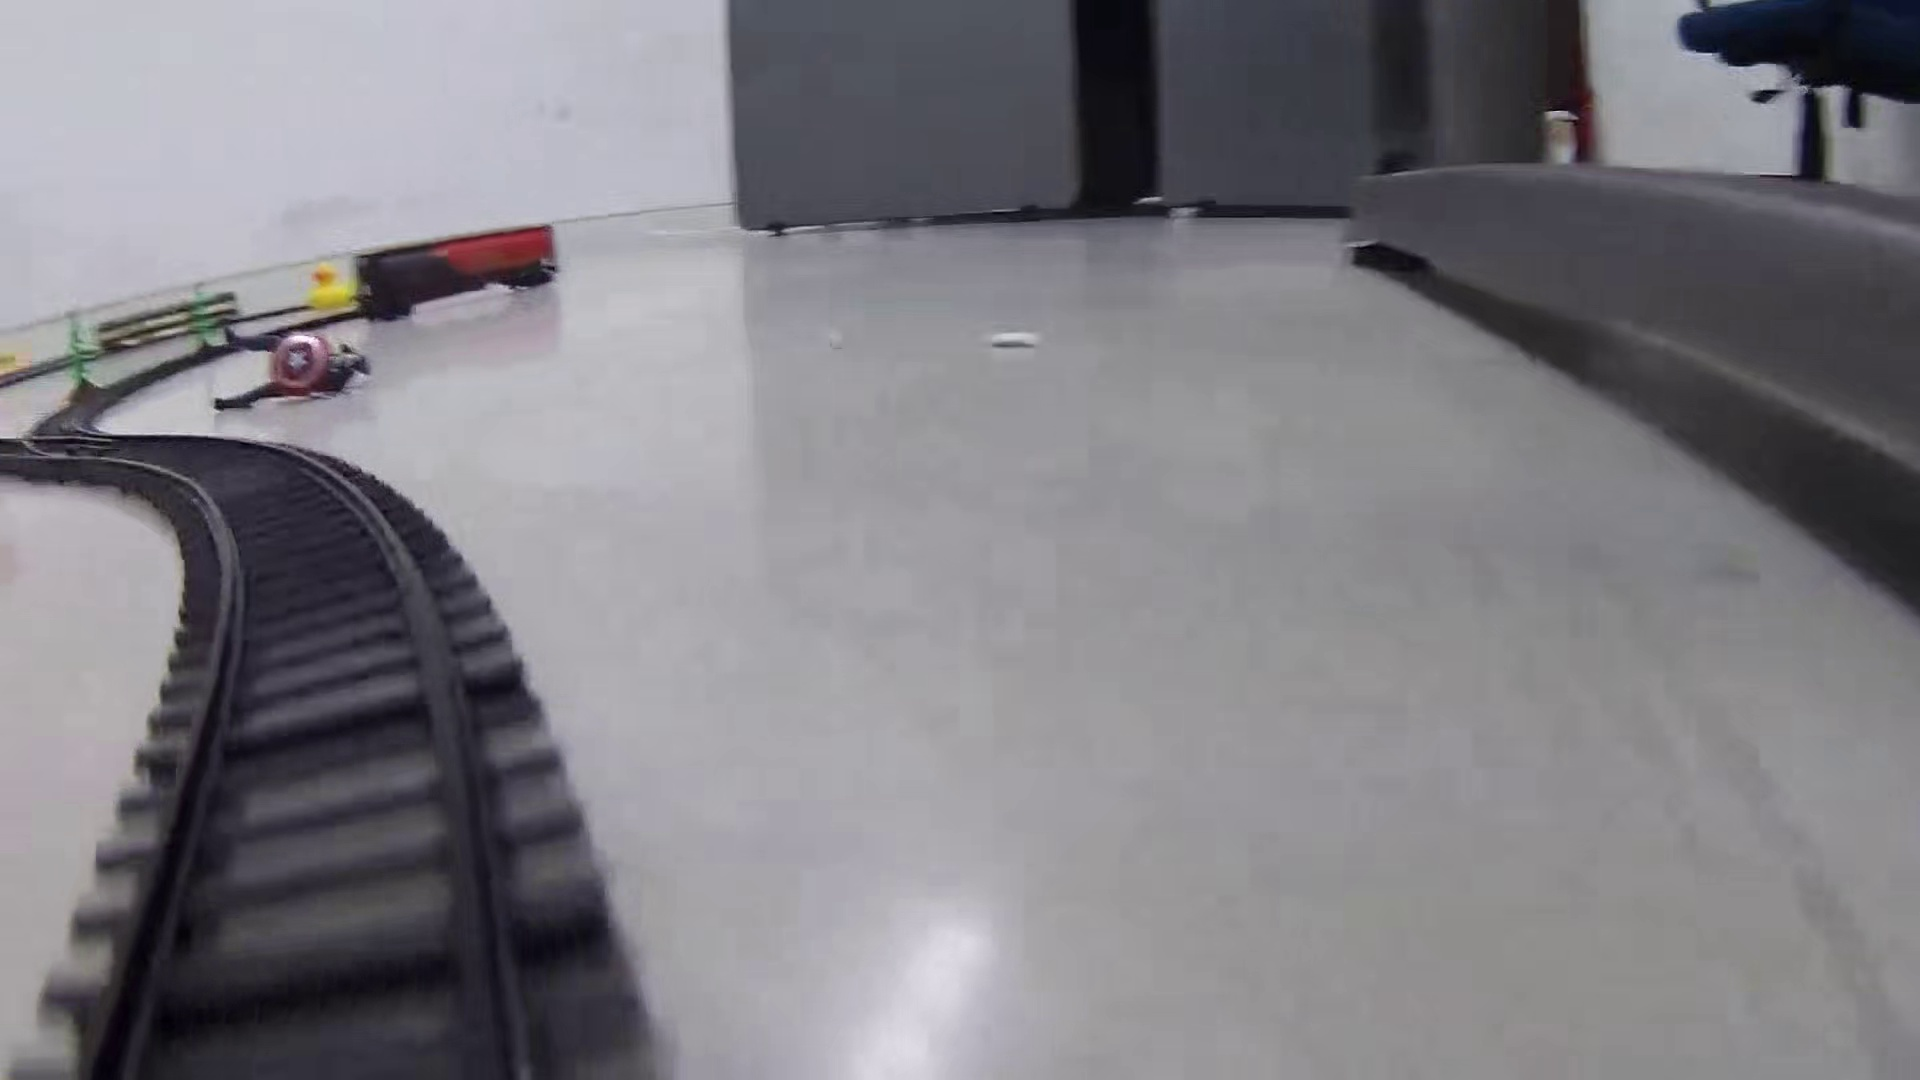people: (203, 320, 378, 412)
tree: (62, 302, 127, 407)
